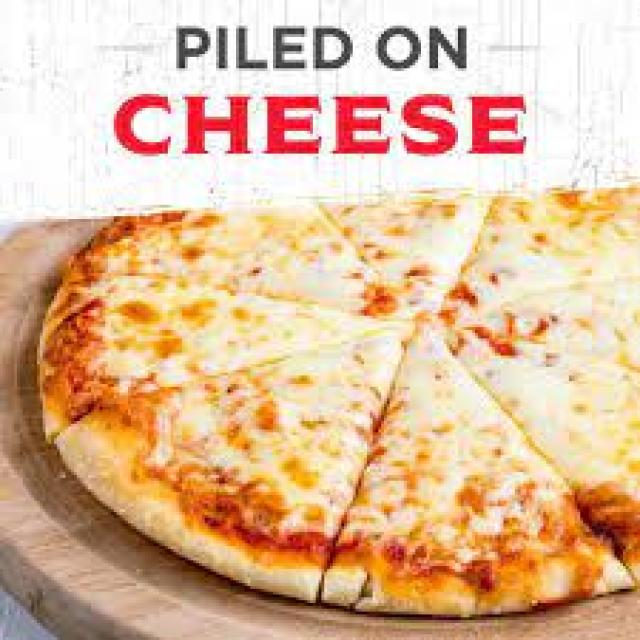피자: (44, 194, 640, 616)
